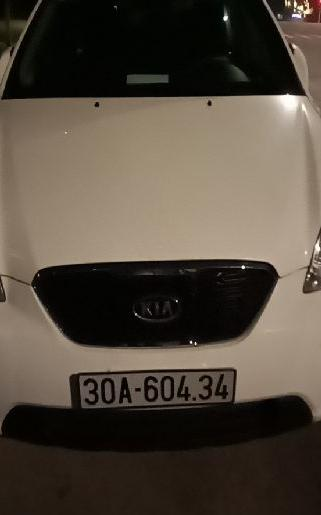Plate-iWeP: (80, 370, 236, 408)
